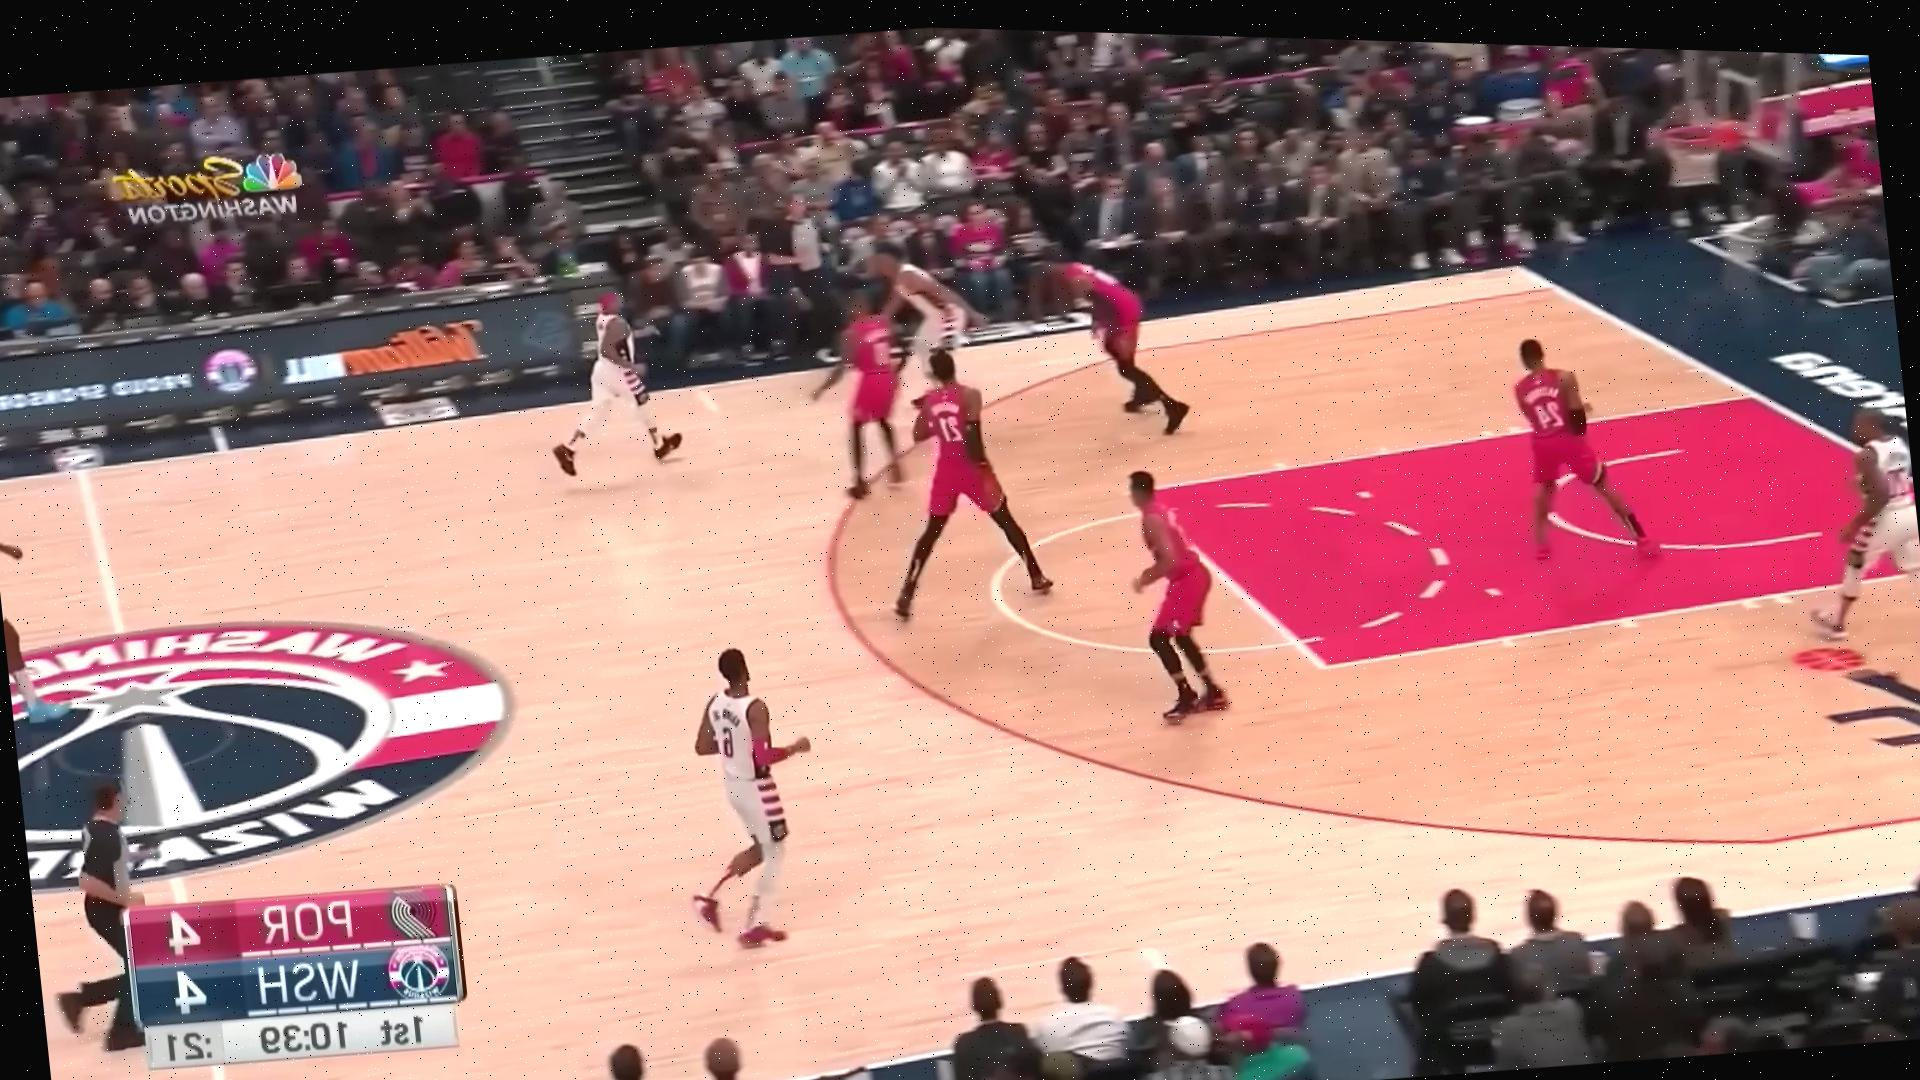no_foul: (497, 251, 732, 500)
